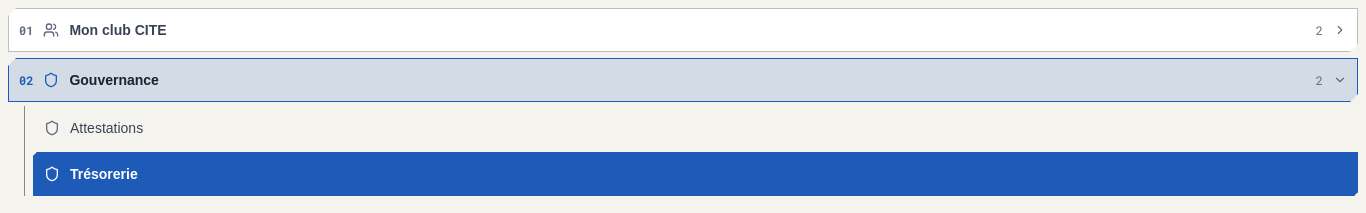
Scenario: Barre latérale — un seul groupe ouvert › referme le groupe précédent quand on en ouvre un autre
Click the button "01 Mon club CITE 2". click: x=118, y=30
box: [8, 8, 1358, 52]
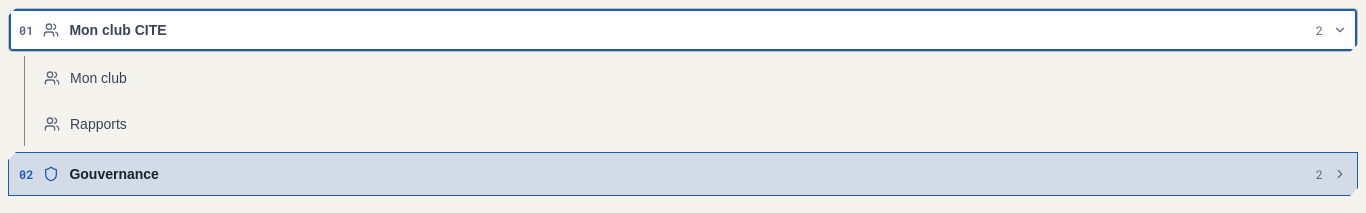
Now the button "01 Mon club CITE 2" is expanded, box [8, 8, 1358, 52]
Now the button "02 Gouvernance 2" is collapsed, box [8, 152, 1358, 196]
